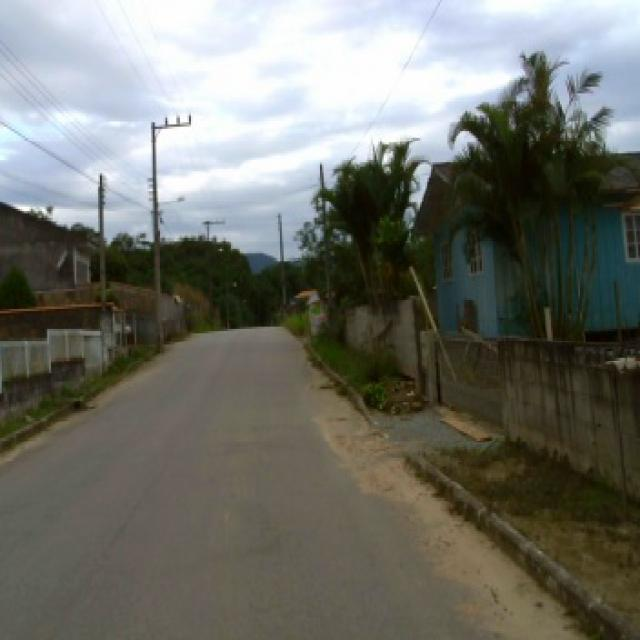Poth-hole: (70, 398, 94, 411)
